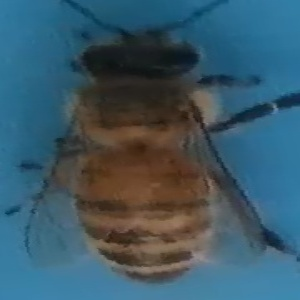bee: (20, 2, 295, 283)
